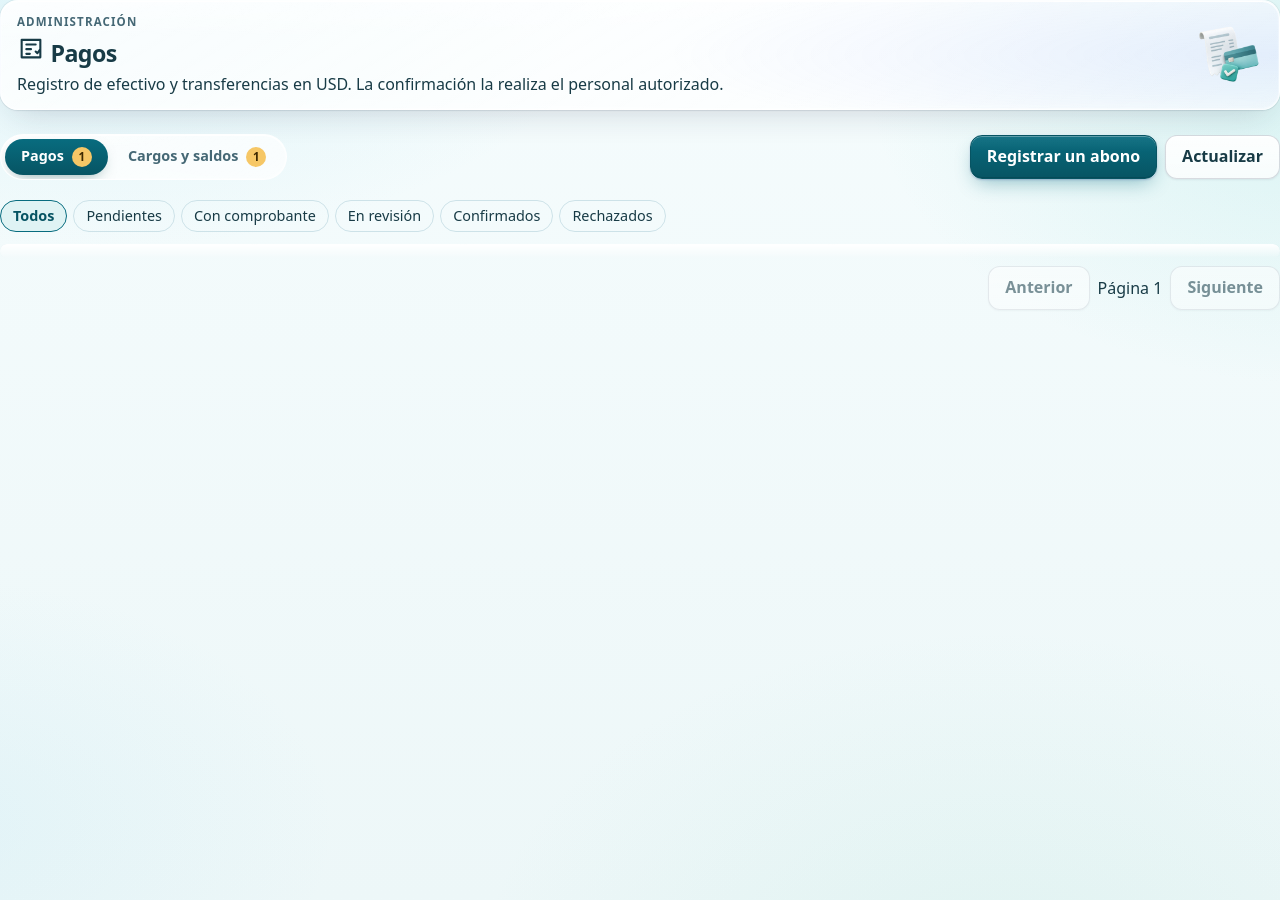
PagosComponent › abre el alta de abonos en una ventana flotante y la cancela sin dejar el formulario en la lista
Click the button "Registrar un abono" at (1064, 157), box [970,135,1157,179]
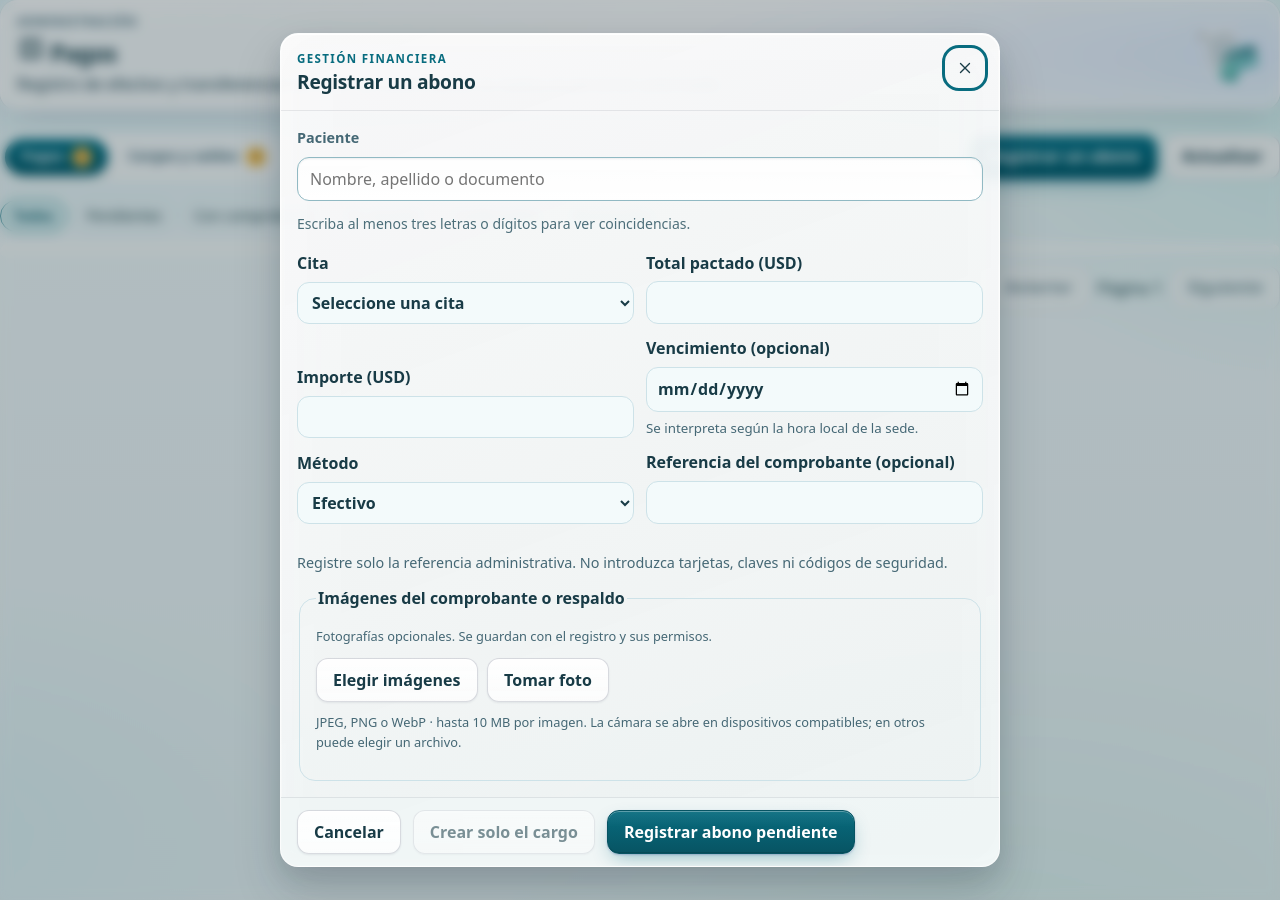
expect the element that starts with "Paciente" is shown: met, box [297,127,983,235]
Click the button "Cancelar" at (349, 832), box [297,810,401,854]
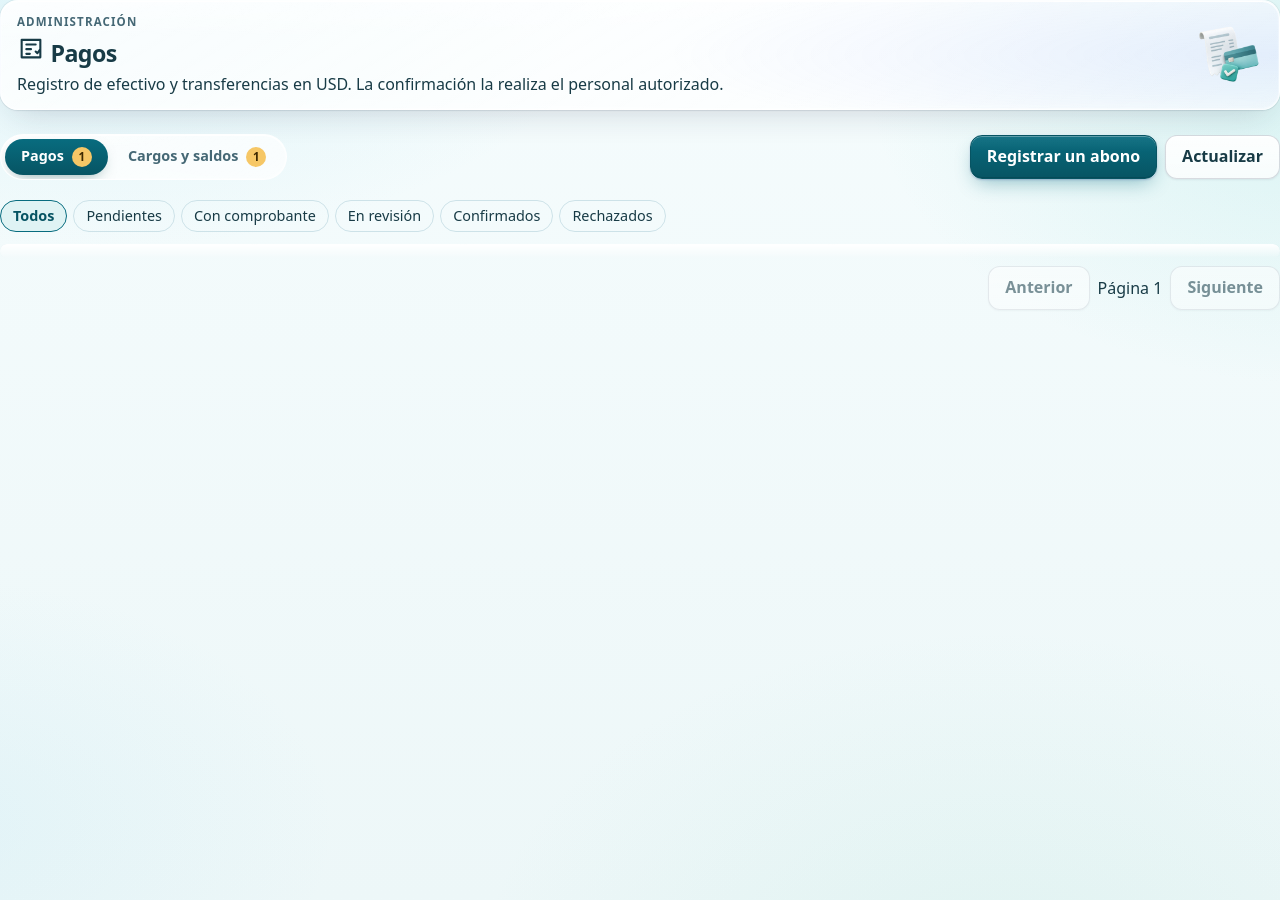
expect the dialog with class "capa" is gone: met
